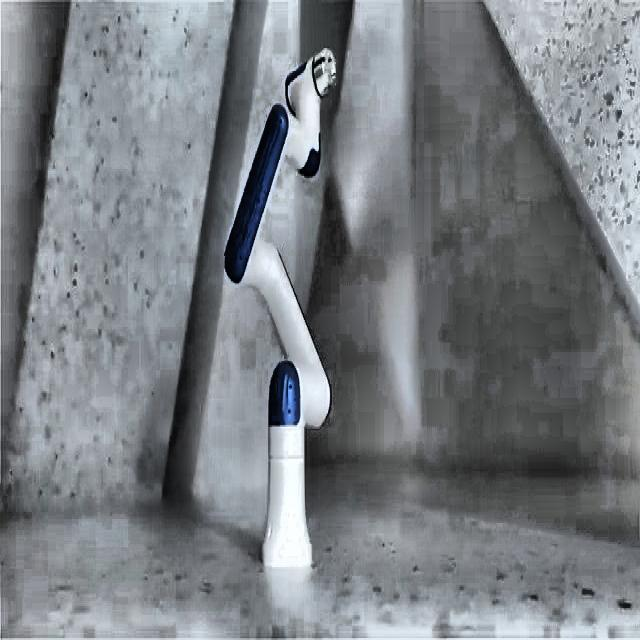robot: (222, 44, 337, 569)
